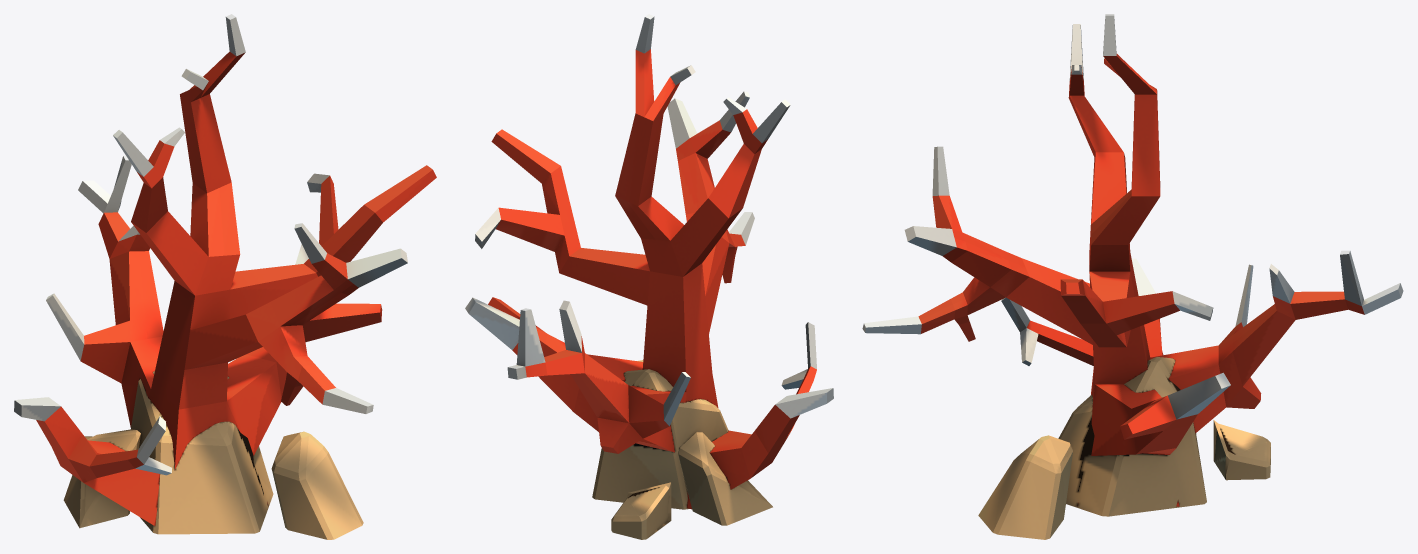
The model's file is PUSHILIN_coral.obj.
3 renders of one model, left to right at view 1: azimuth 30°, elevation 25°; view 2: azimuth 150°, elevation 25°; view 3: azimuth 270°, elevation 25°, orthographic. The views are drawn at different scales.
Visible parts, largest first — view 1: coral; view 2: coral; view 3: coral.
Part boxes in pixels (left/top/right/bottom): coral: left=14, top=14, right=436, bottom=539; coral: left=465, top=14, right=833, bottom=539; coral: left=862, top=14, right=1403, bottom=539.
Size of the model in its own units: 1.33 by 1.59 by 1.61.
Materials: 1 (1 with a texture image).
